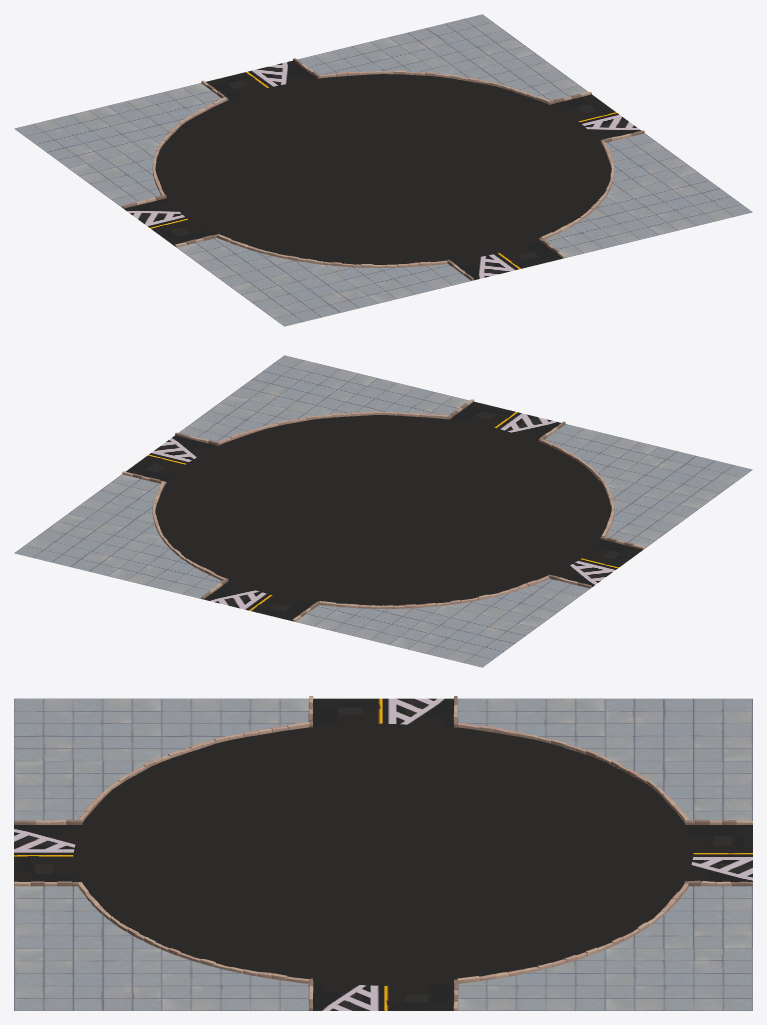
Rendered from CityRoad_roundSquare_1.fbx.
The picture shows the model from 3 angles, top to bottom: view 1: azimuth 30°, elevation 25°; view 2: azimuth 150°, elevation 25°; view 3: azimuth 270°, elevation 25°; orthographic projection. The views are drawn at different scales.
Parts seen in each view (by area): view 1: CityRoad_roundSquare_1_mesh; view 2: CityRoad_roundSquare_1_mesh; view 3: CityRoad_roundSquare_1_mesh.
Part boxes in pixels (box(x1,y1,x2,y2)): CityRoad_roundSquare_1_mesh: box(14, 14, 752, 326); CityRoad_roundSquare_1_mesh: box(14, 355, 752, 667); CityRoad_roundSquare_1_mesh: box(14, 696, 752, 1010).
Bounding box in the file's own units: 5000 × 28.55 × 5000.
